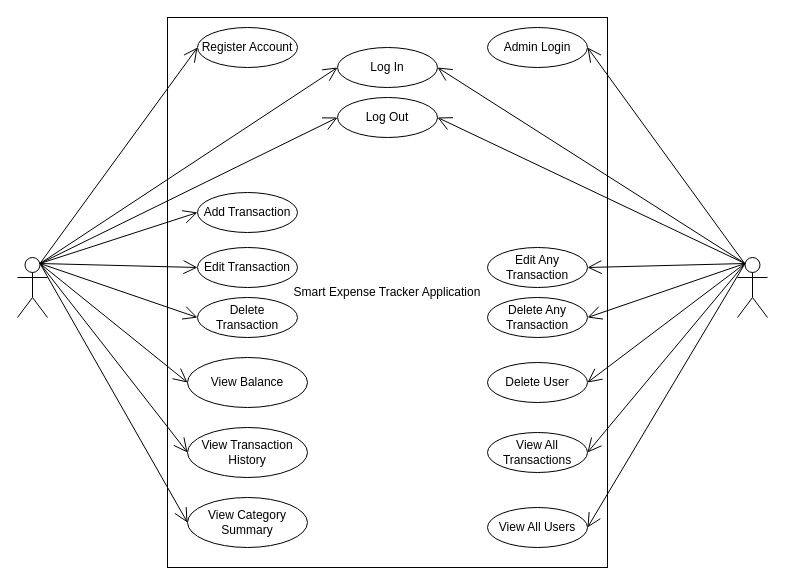
This 787x585 diagram has some shape labels left out. The centre of each missing label's shape, as x and y in pixels:
"Admin" belongs at (x=752, y=287).
"User" belongs at (x=32, y=287).
